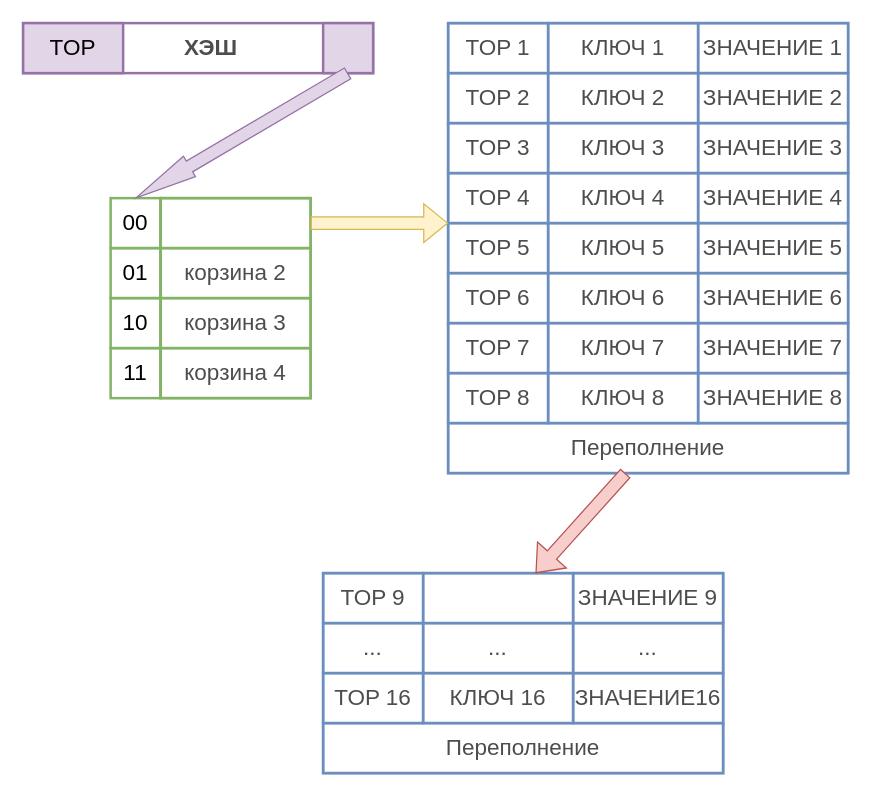
Some shapes in this 870 by 795 pixel diagram are drawn without their labels. Here are the shapes that lost their labels. From the top down, the box of each, then its label:
(321, 21, 374, 74): xx
(159, 196, 311, 249): корзина 1
(421, 571, 574, 624): КЛЮЧ 9
